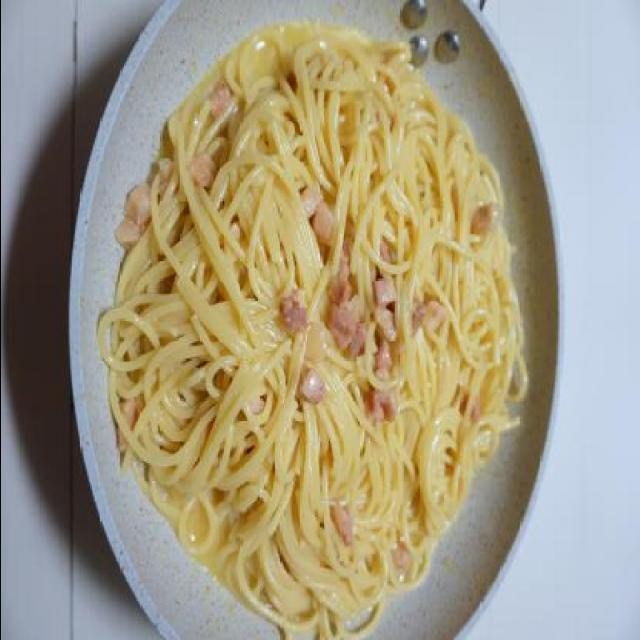Pasta with carbonara sauce: (69, 8, 548, 600)
